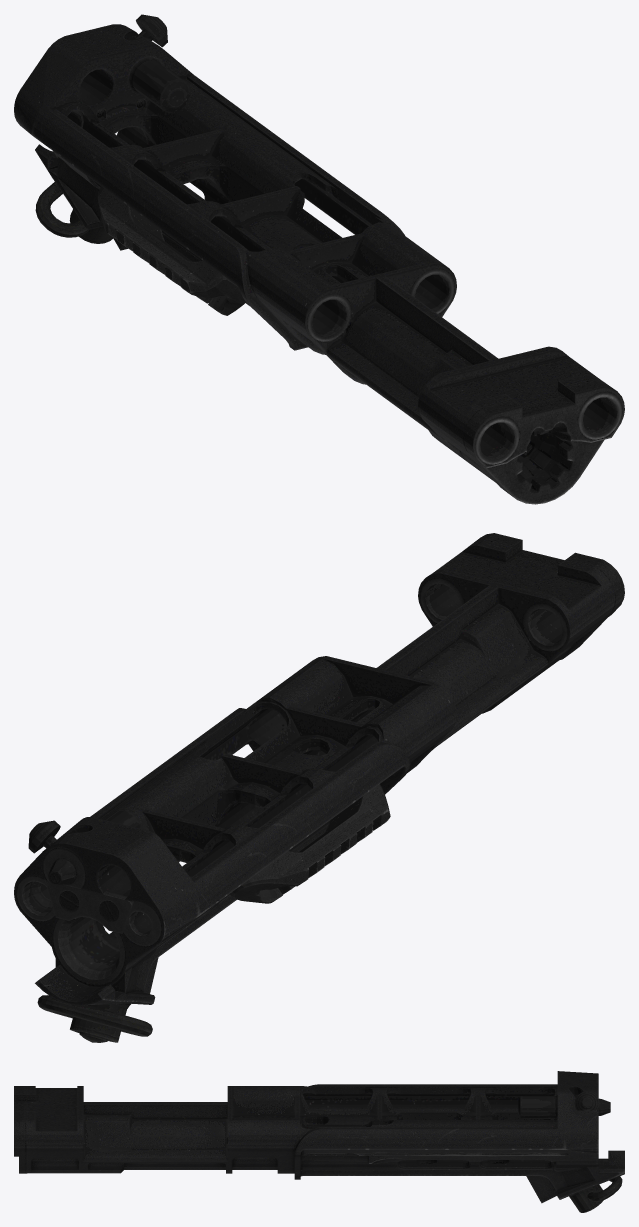
3 renders of one model, top to bottom at view 1: azimuth 30°, elevation 25°; view 2: azimuth 150°, elevation 25°; view 3: azimuth 270°, elevation 25°, orthographic. The views are drawn at different scales.
Parts seen in each view (by area): view 1: TW_62e7c72df68e7a0676050c77_PZ_Import; view 2: TW_62e7c72df68e7a0676050c77_PZ_Import; view 3: TW_62e7c72df68e7a0676050c77_PZ_Import.
Boxes of the visible parts, x1,y1,x2,y2 form: TW_62e7c72df68e7a0676050c77_PZ_Import: [14, 14, 624, 504]; TW_62e7c72df68e7a0676050c77_PZ_Import: [14, 533, 624, 1042]; TW_62e7c72df68e7a0676050c77_PZ_Import: [14, 1071, 624, 1212].
Bounding box in the file's own units: 0.0382 × 0.1731 × 0.0419.
1 material, 1 textured.
